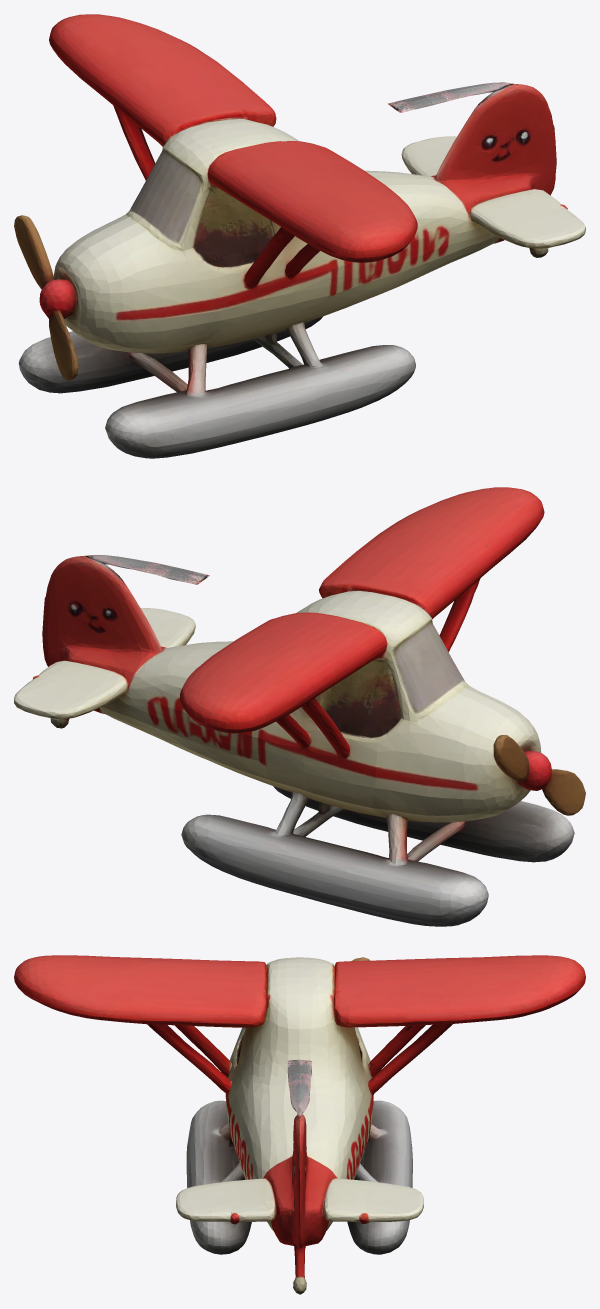
3 renders of one model, top to bottom at view 1: azimuth 30°, elevation 25°; view 2: azimuth 150°, elevation 25°; view 3: azimuth 270°, elevation 25°, orthographic. The views are drawn at different scales.
Parts seen in each view (by area): view 1: geometry_0; view 2: geometry_0; view 3: geometry_0.
Part boxes in pixels (bbox=[...]): geometry_0: bbox=[14, 14, 585, 458]; geometry_0: bbox=[14, 487, 585, 926]; geometry_0: bbox=[14, 955, 585, 1294].
Size of the model in its own units: 0.9528 by 0.4834 by 1.
1 material, 1 textured.
